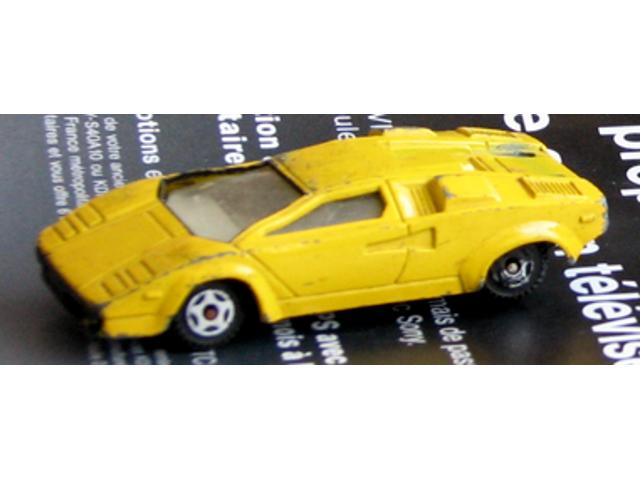toy-car: (36, 123, 610, 351)
